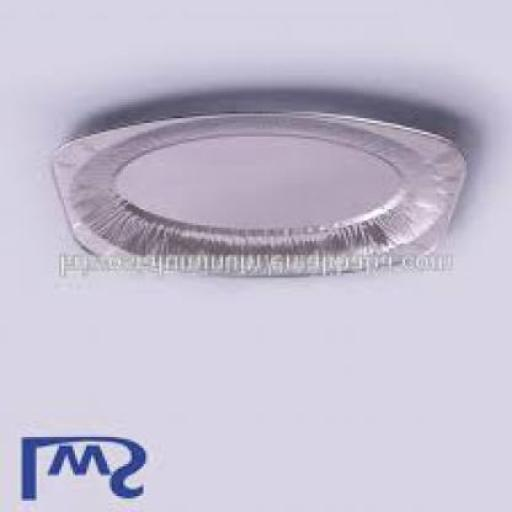metal: (50, 112, 464, 282)
